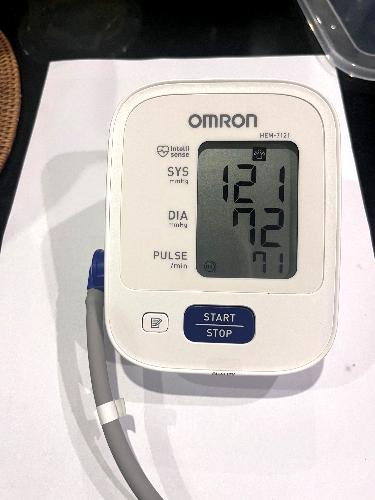bpm: (191, 137, 301, 282)
